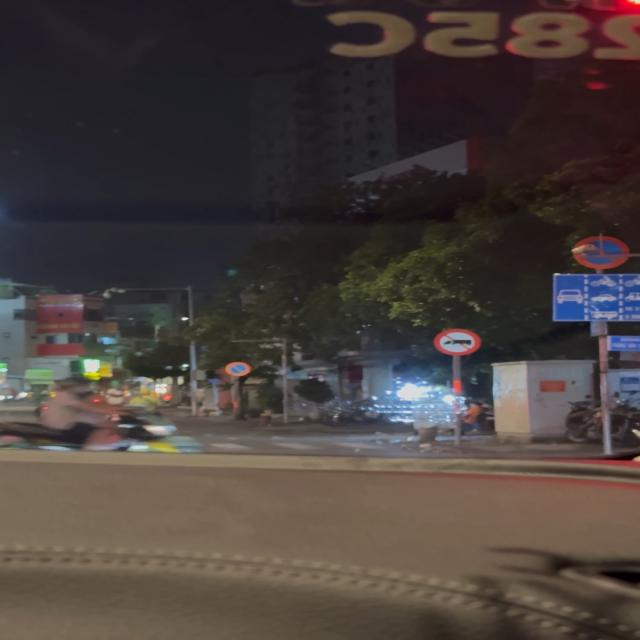Bien bao cam do xe: (223, 361, 256, 377)
Bien bao cam xe so-mi ro-mooc: (432, 328, 482, 357)
